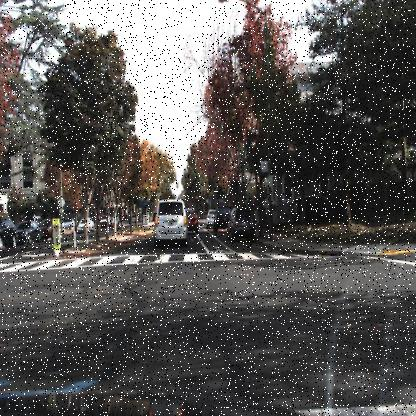car: (150, 193, 188, 250), (290, 194, 346, 226), (226, 204, 257, 242), (11, 218, 45, 251), (39, 216, 64, 240), (210, 203, 224, 236), (186, 207, 201, 236), (76, 218, 92, 238), (203, 208, 218, 229)
